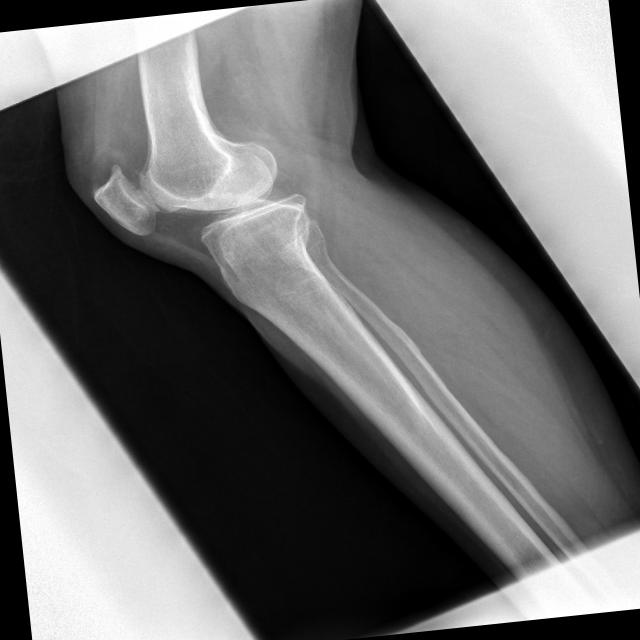Knee: (82, 101, 322, 292)
